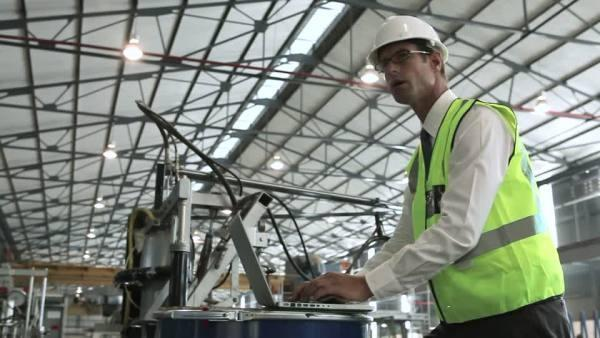helmet: (362, 13, 453, 70)
person: (355, 11, 577, 337)
vest: (389, 103, 553, 306)
